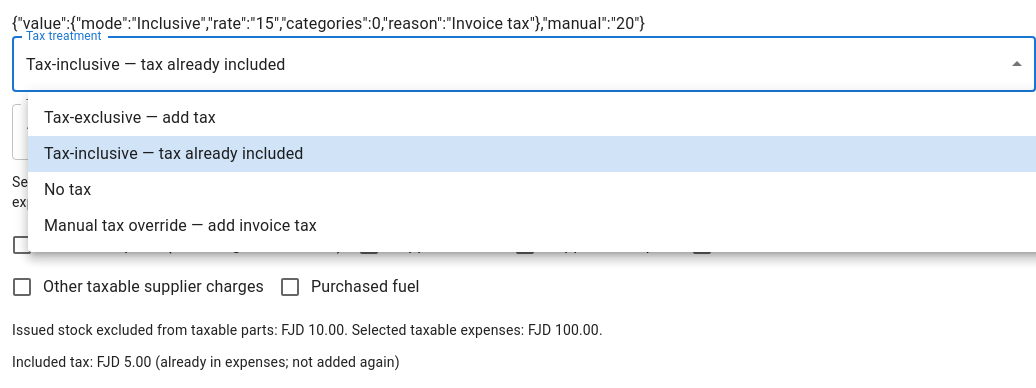
Scenario: edits manual tax and switches to automatic inclusive tax with category flags
Earlier steps of the test are not shown.
Click the option "No tax".
click(68, 190)  # box [44, 180, 91, 199]
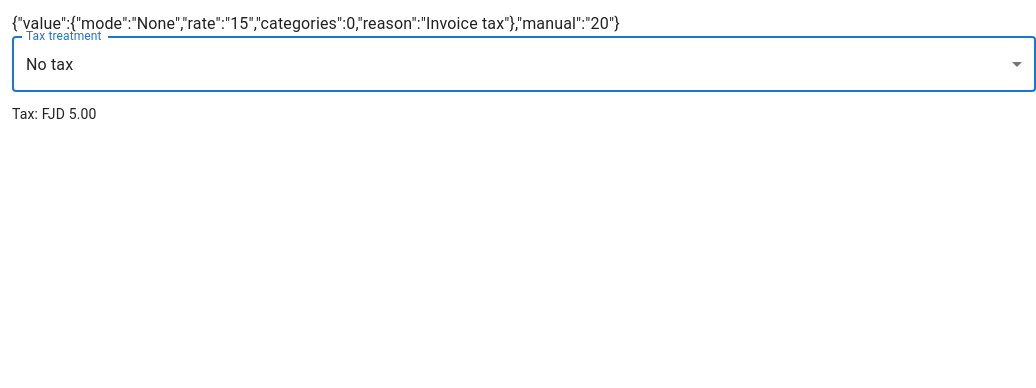
Result: the label labelled "Tax rate" is gone
